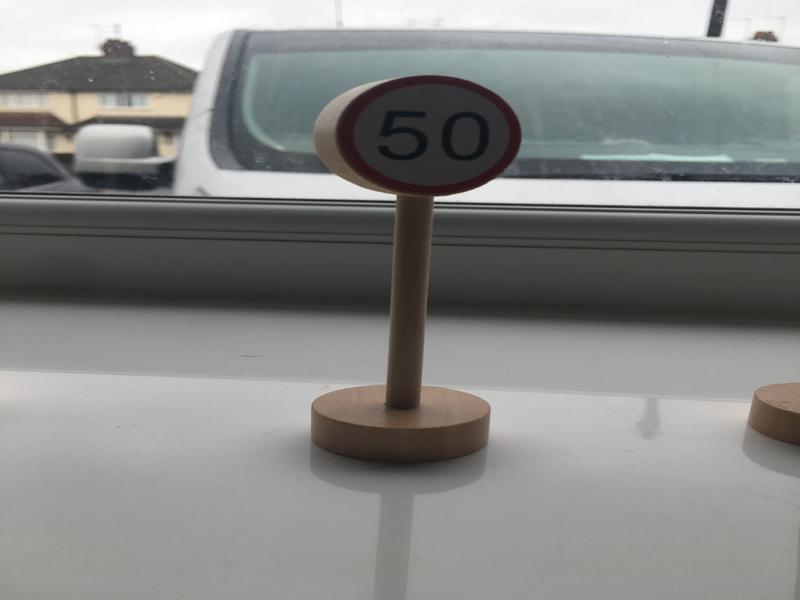Traffic_Sign_50: (337, 75, 524, 195)
